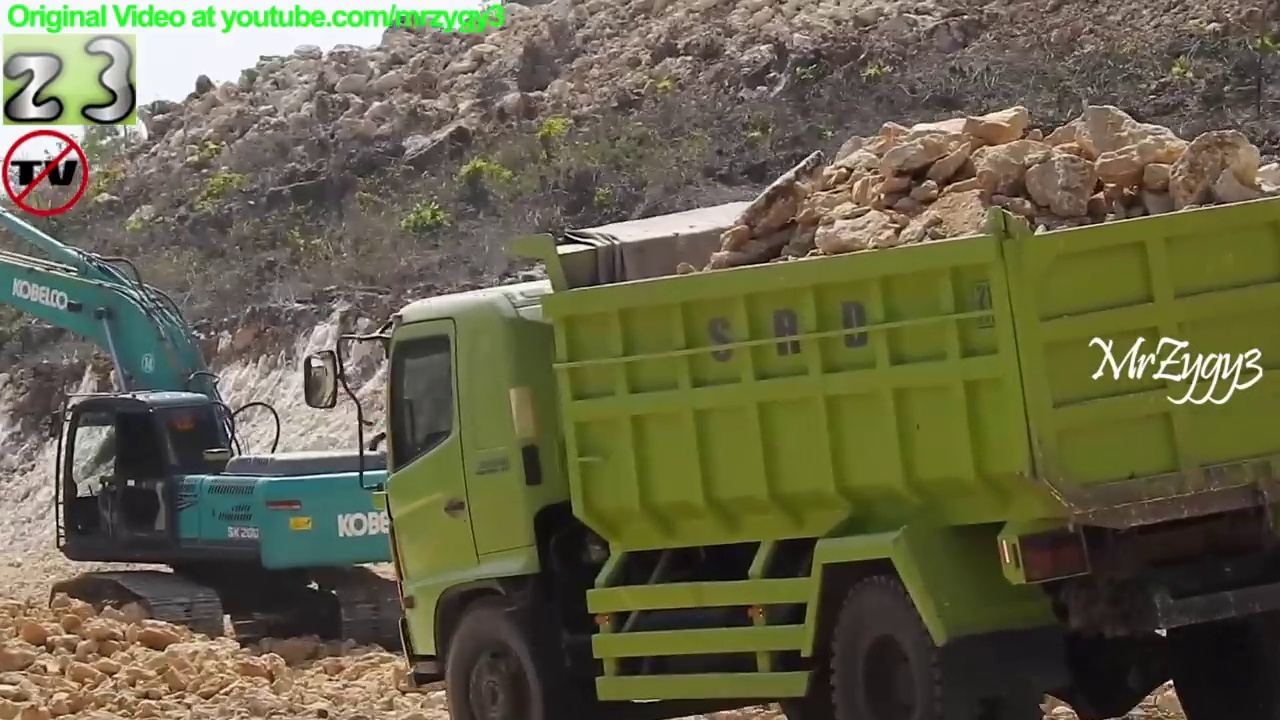excavator: (1, 196, 492, 672)
truck: (293, 155, 1280, 720)
